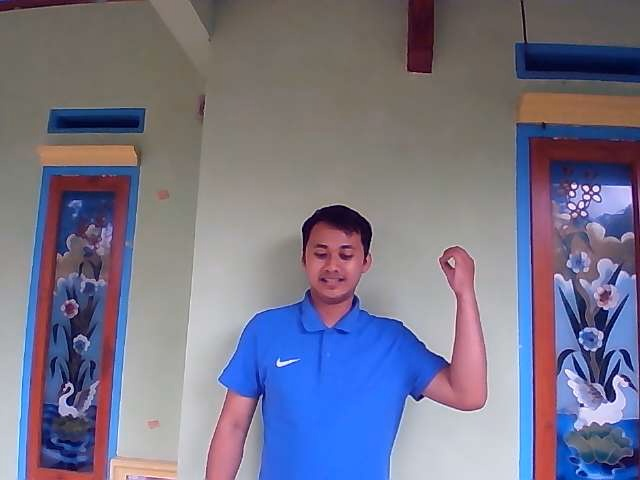O: (438, 245, 477, 297)
